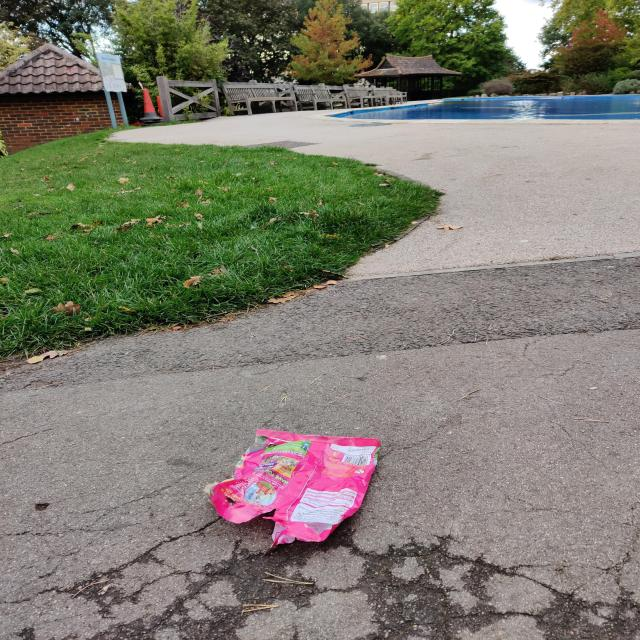litter: (212, 427, 381, 545)
